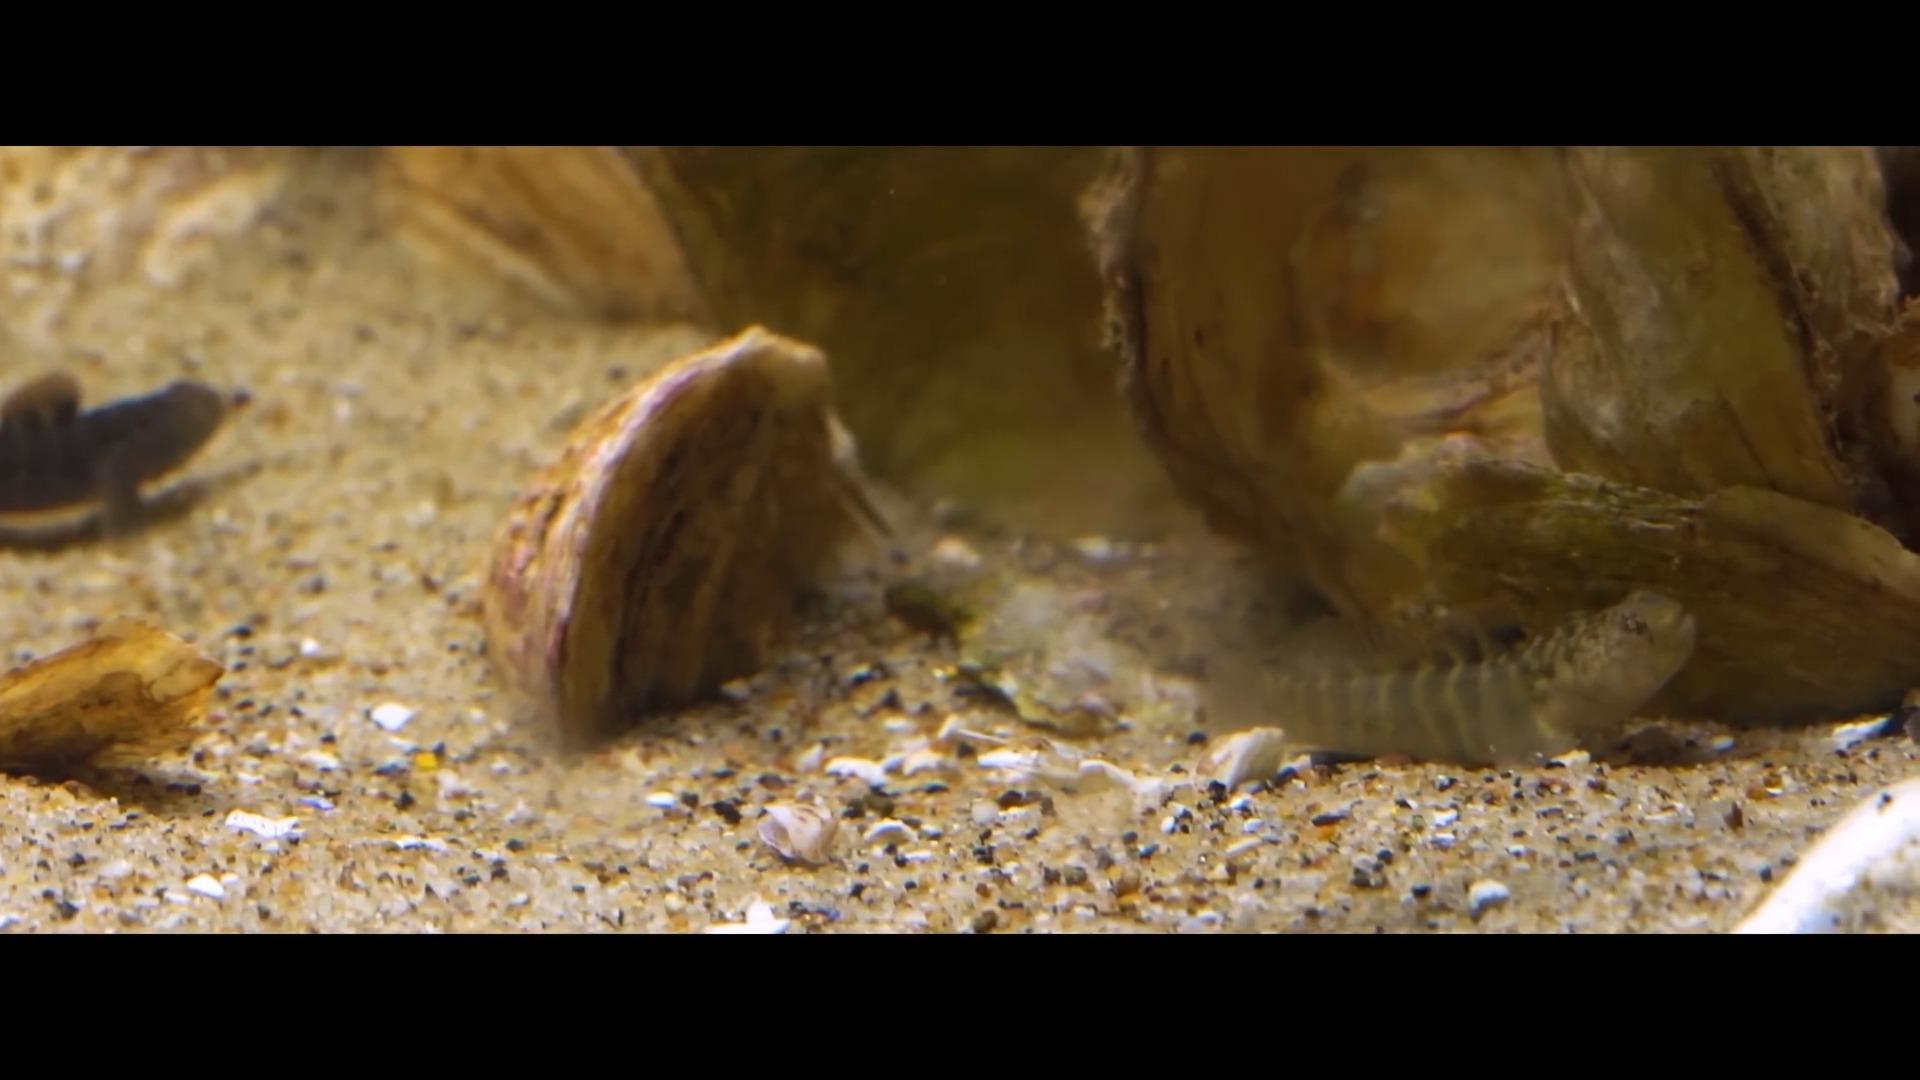Oyster: (481, 327, 897, 745), (377, 146, 705, 326), (0, 616, 223, 781)
